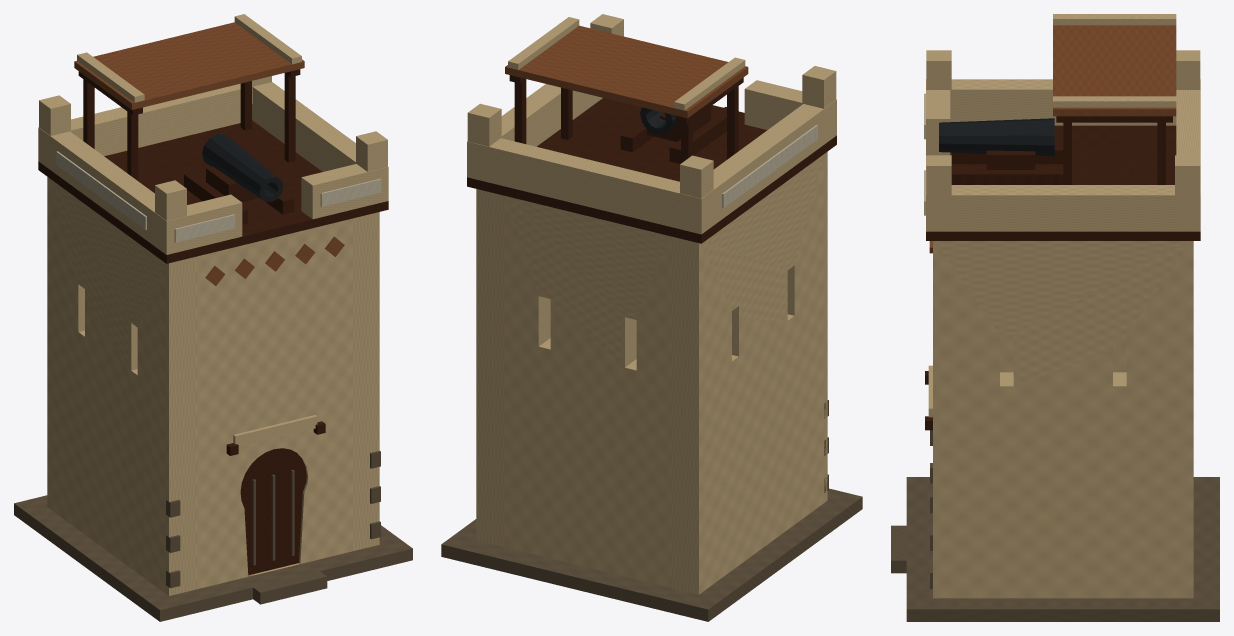
File: Berber_Outpost_Age4_cannon.fbx
The picture shows the model from 3 angles, left to right: view 1: azimuth 30°, elevation 25°; view 2: azimuth 150°, elevation 25°; view 3: azimuth 270°, elevation 25°; orthographic projection. The views are drawn at different scales.
Visible parts, largest first — view 1: west_thick_wall, south_thick_wall, lookout_floor, tower_foundation, fitted_flat_canopy, east_thick_wall, lookout_parapet_back, horseshoe_door, lookout_parapet_side.001, lookout_parapet_side, lookout_parapet_front.001, lookout_parapet_front (+17 smaller); view 2: north_thick_wall, west_thick_wall, tower_foundation, lookout_parapet_back, fitted_flat_canopy, lookout_floor, east_thick_wall, lookout_parapet_side, lookout_parapet_side.001, lookout_parapet_front, neutral_owner_side_band, corner_merlon.003 (+11 smaller); view 3: east_thick_wall, tower_foundation, lookout_parapet_side.001, fitted_flat_canopy, lookout_floor, lookout_parapet_side, cannon_hollow_barrel, lookout_parapet_back, cannon_ground_skid.001, stone_crown_coping.001, stone_crown_coping, lookout_parapet_front (+12 smaller).
Part boxes in pixels (<box>): west_thick_wall: <box>47,177,195,595</box>; south_thick_wall: <box>195,218,352,589</box>; lookout_floor: <box>38,120,388,263</box>; tower_foundation: <box>14,495,412,621</box>; fitted_flat_canopy: <box>74,22,304,109</box>; east_thick_wall: <box>353,212,379,550</box>; lookout_parapet_back: <box>38,83,240,168</box>; horseshoe_door: <box>240,448,306,575</box>; lookout_parapet_side.001: <box>252,82,355,171</box>; lookout_parapet_side: <box>49,131,160,248</box>; lookout_parapet_front.001: <box>301,164,388,219</box>; lookout_parapet_front: <box>155,194,242,254</box>; north_thick_wall: <box>504,196,670,587</box>; west_thick_wall: <box>671,152,827,594</box>; tower_foundation: <box>441,488,862,621</box>; lookout_parapet_back: <box>467,138,713,234</box>; fitted_flat_canopy: <box>505,25,748,118</box>; lookout_floor: <box>467,98,836,243</box>; east_thick_wall: <box>476,189,504,547</box>; lookout_parapet_side: <box>713,104,830,225</box>; lookout_parapet_side.001: <box>501,84,602,146</box>; lookout_parapet_front: <box>744,80,836,143</box>; neutral_owner_side_band: <box>722,125,817,207</box>; corner_merlon.003: <box>467,103,501,146</box>; east_thick_wall: <box>933,241,1193,598</box>; tower_foundation: <box>906,477,1219,621</box>; lookout_parapet_side.001: <box>938,185,1187,231</box>; fitted_flat_canopy: <box>1053,25,1176,116</box>; lookout_floor: <box>926,125,1200,240</box>; lookout_parapet_side: <box>950,79,1176,125</box>; cannon_hollow_barrel: <box>939,118,1054,156</box>; lookout_parapet_back: <box>1176,79,1200,231</box>; cannon_ground_skid.001: <box>952,168,1063,184</box>; stone_crown_coping.001: <box>1053,96,1176,107</box>; stone_crown_coping: <box>1053,14,1176,25</box>; lookout_parapet_front: <box>926,79,950,155</box>.
Size of the model in its own units: 360 by 632 by 378.
6 materials, 6 textured.
